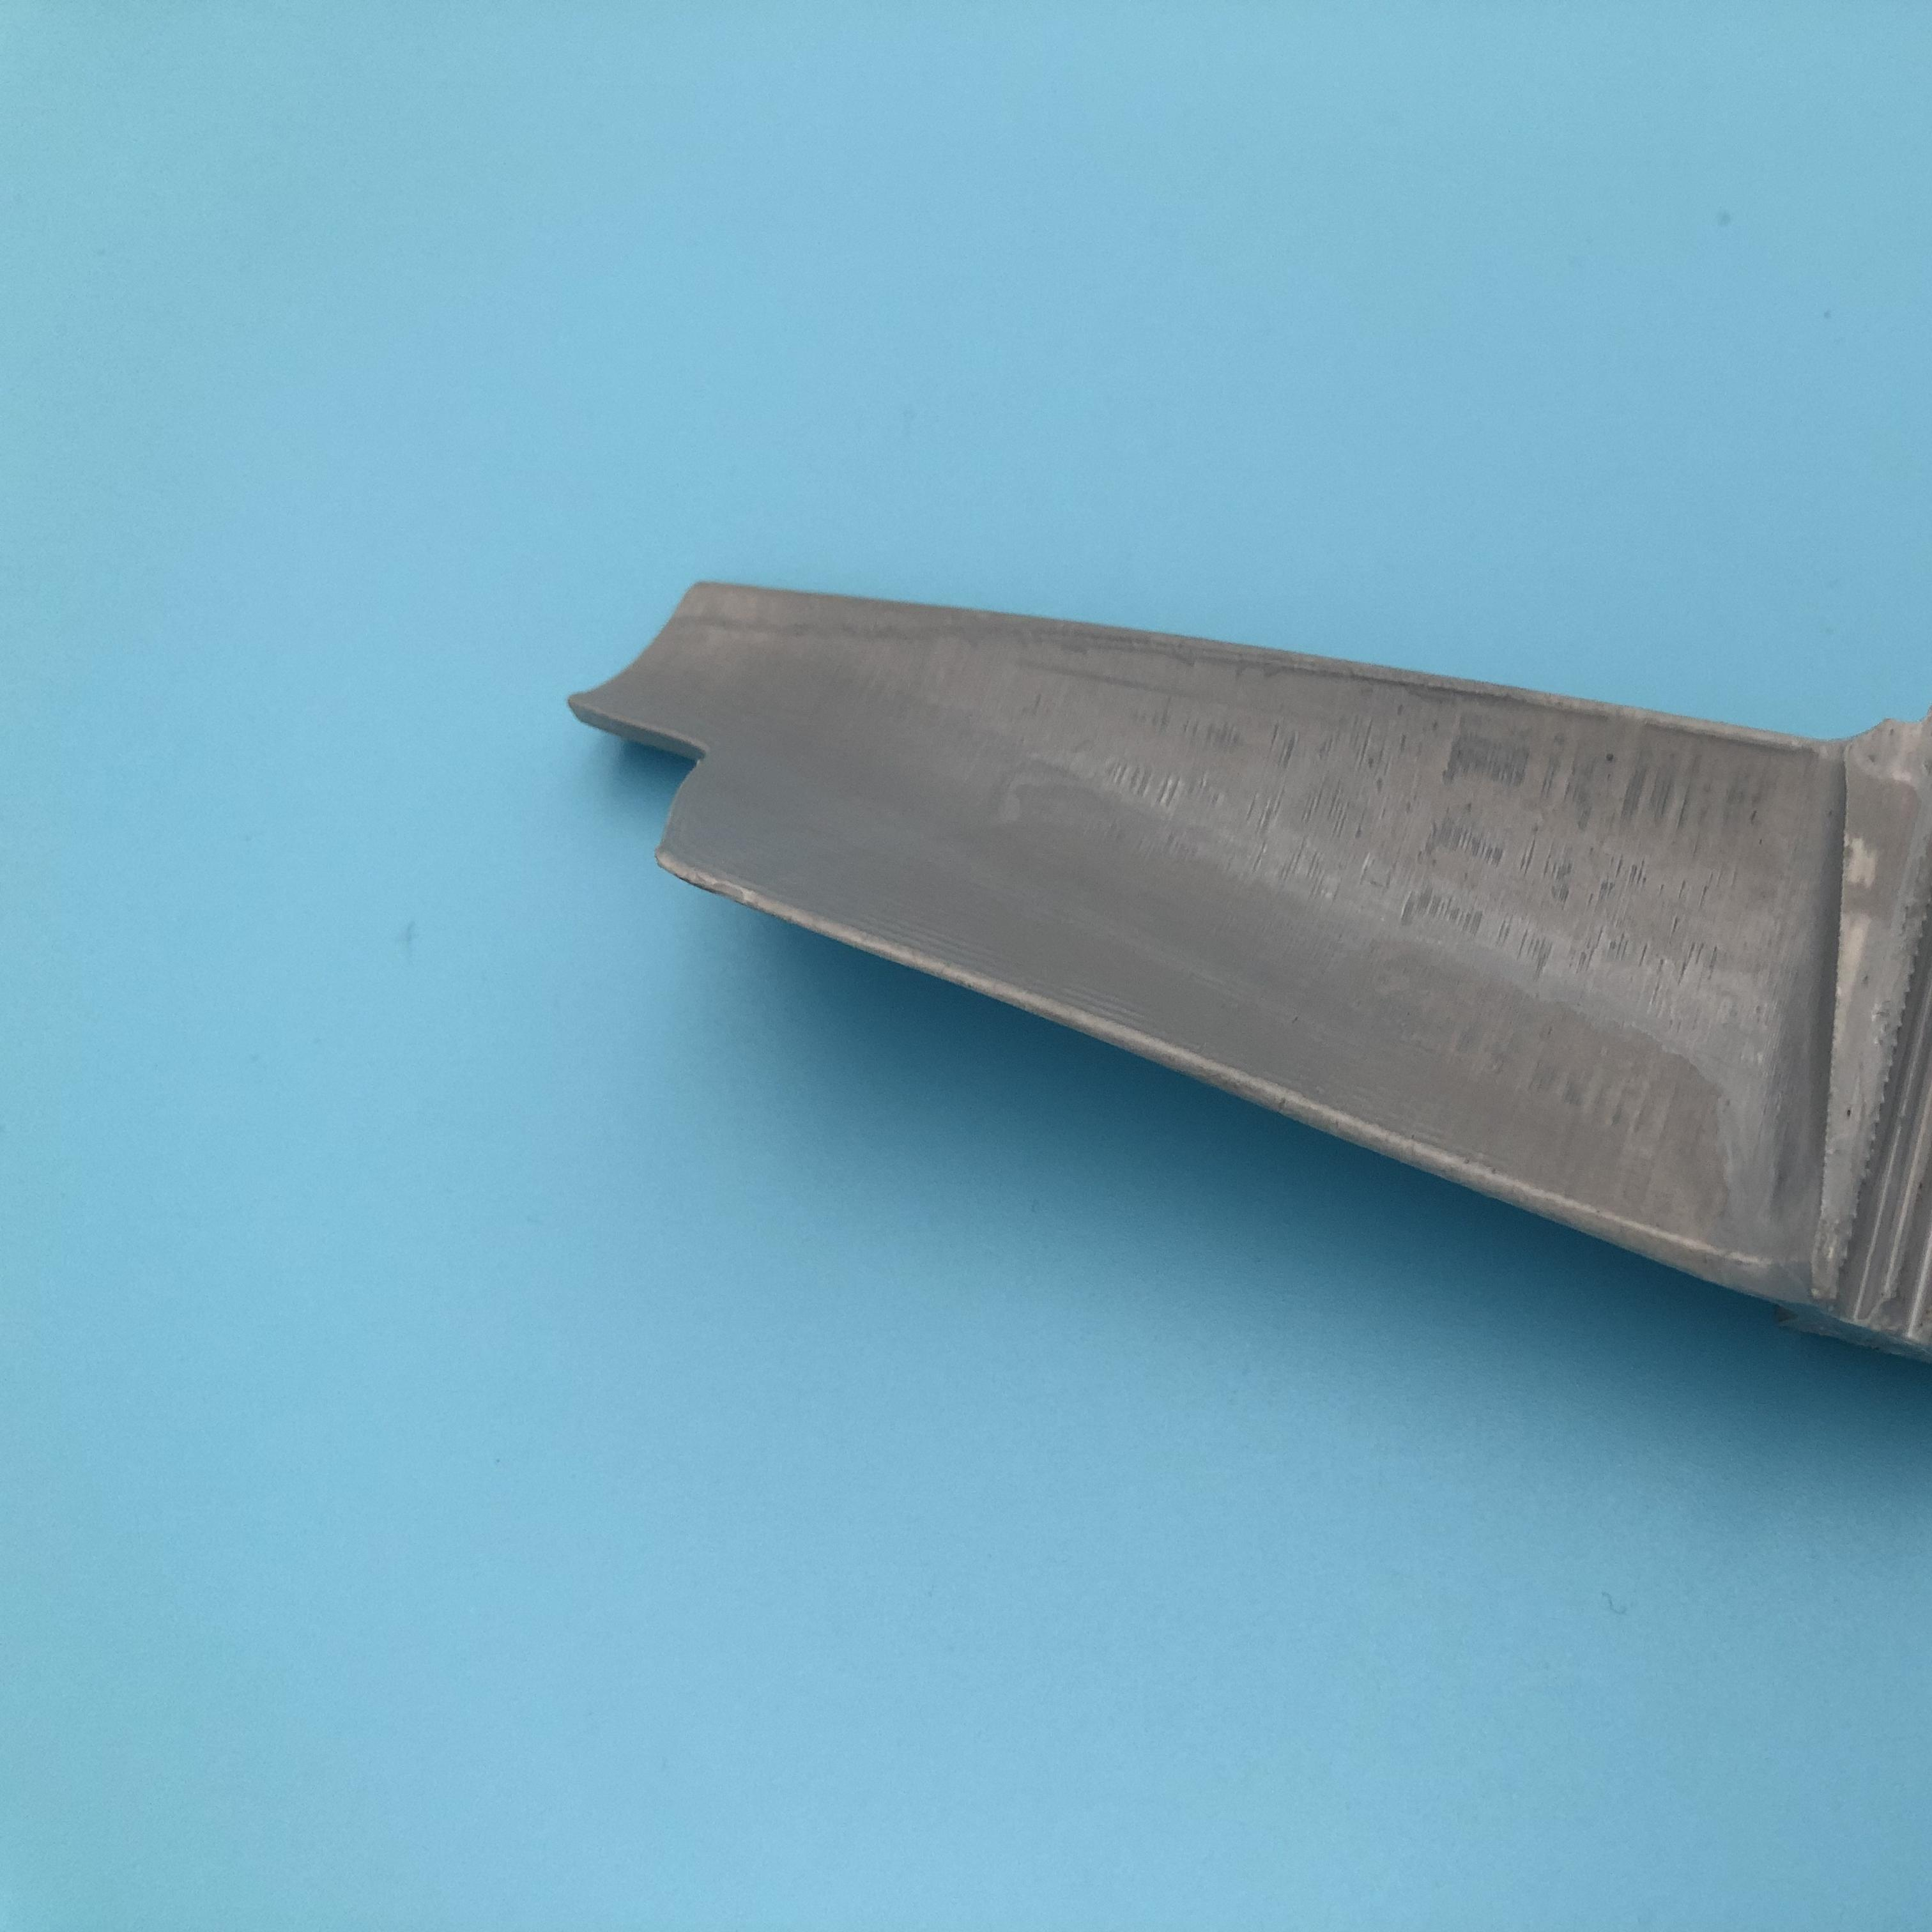fracture: (575, 695, 740, 888)
